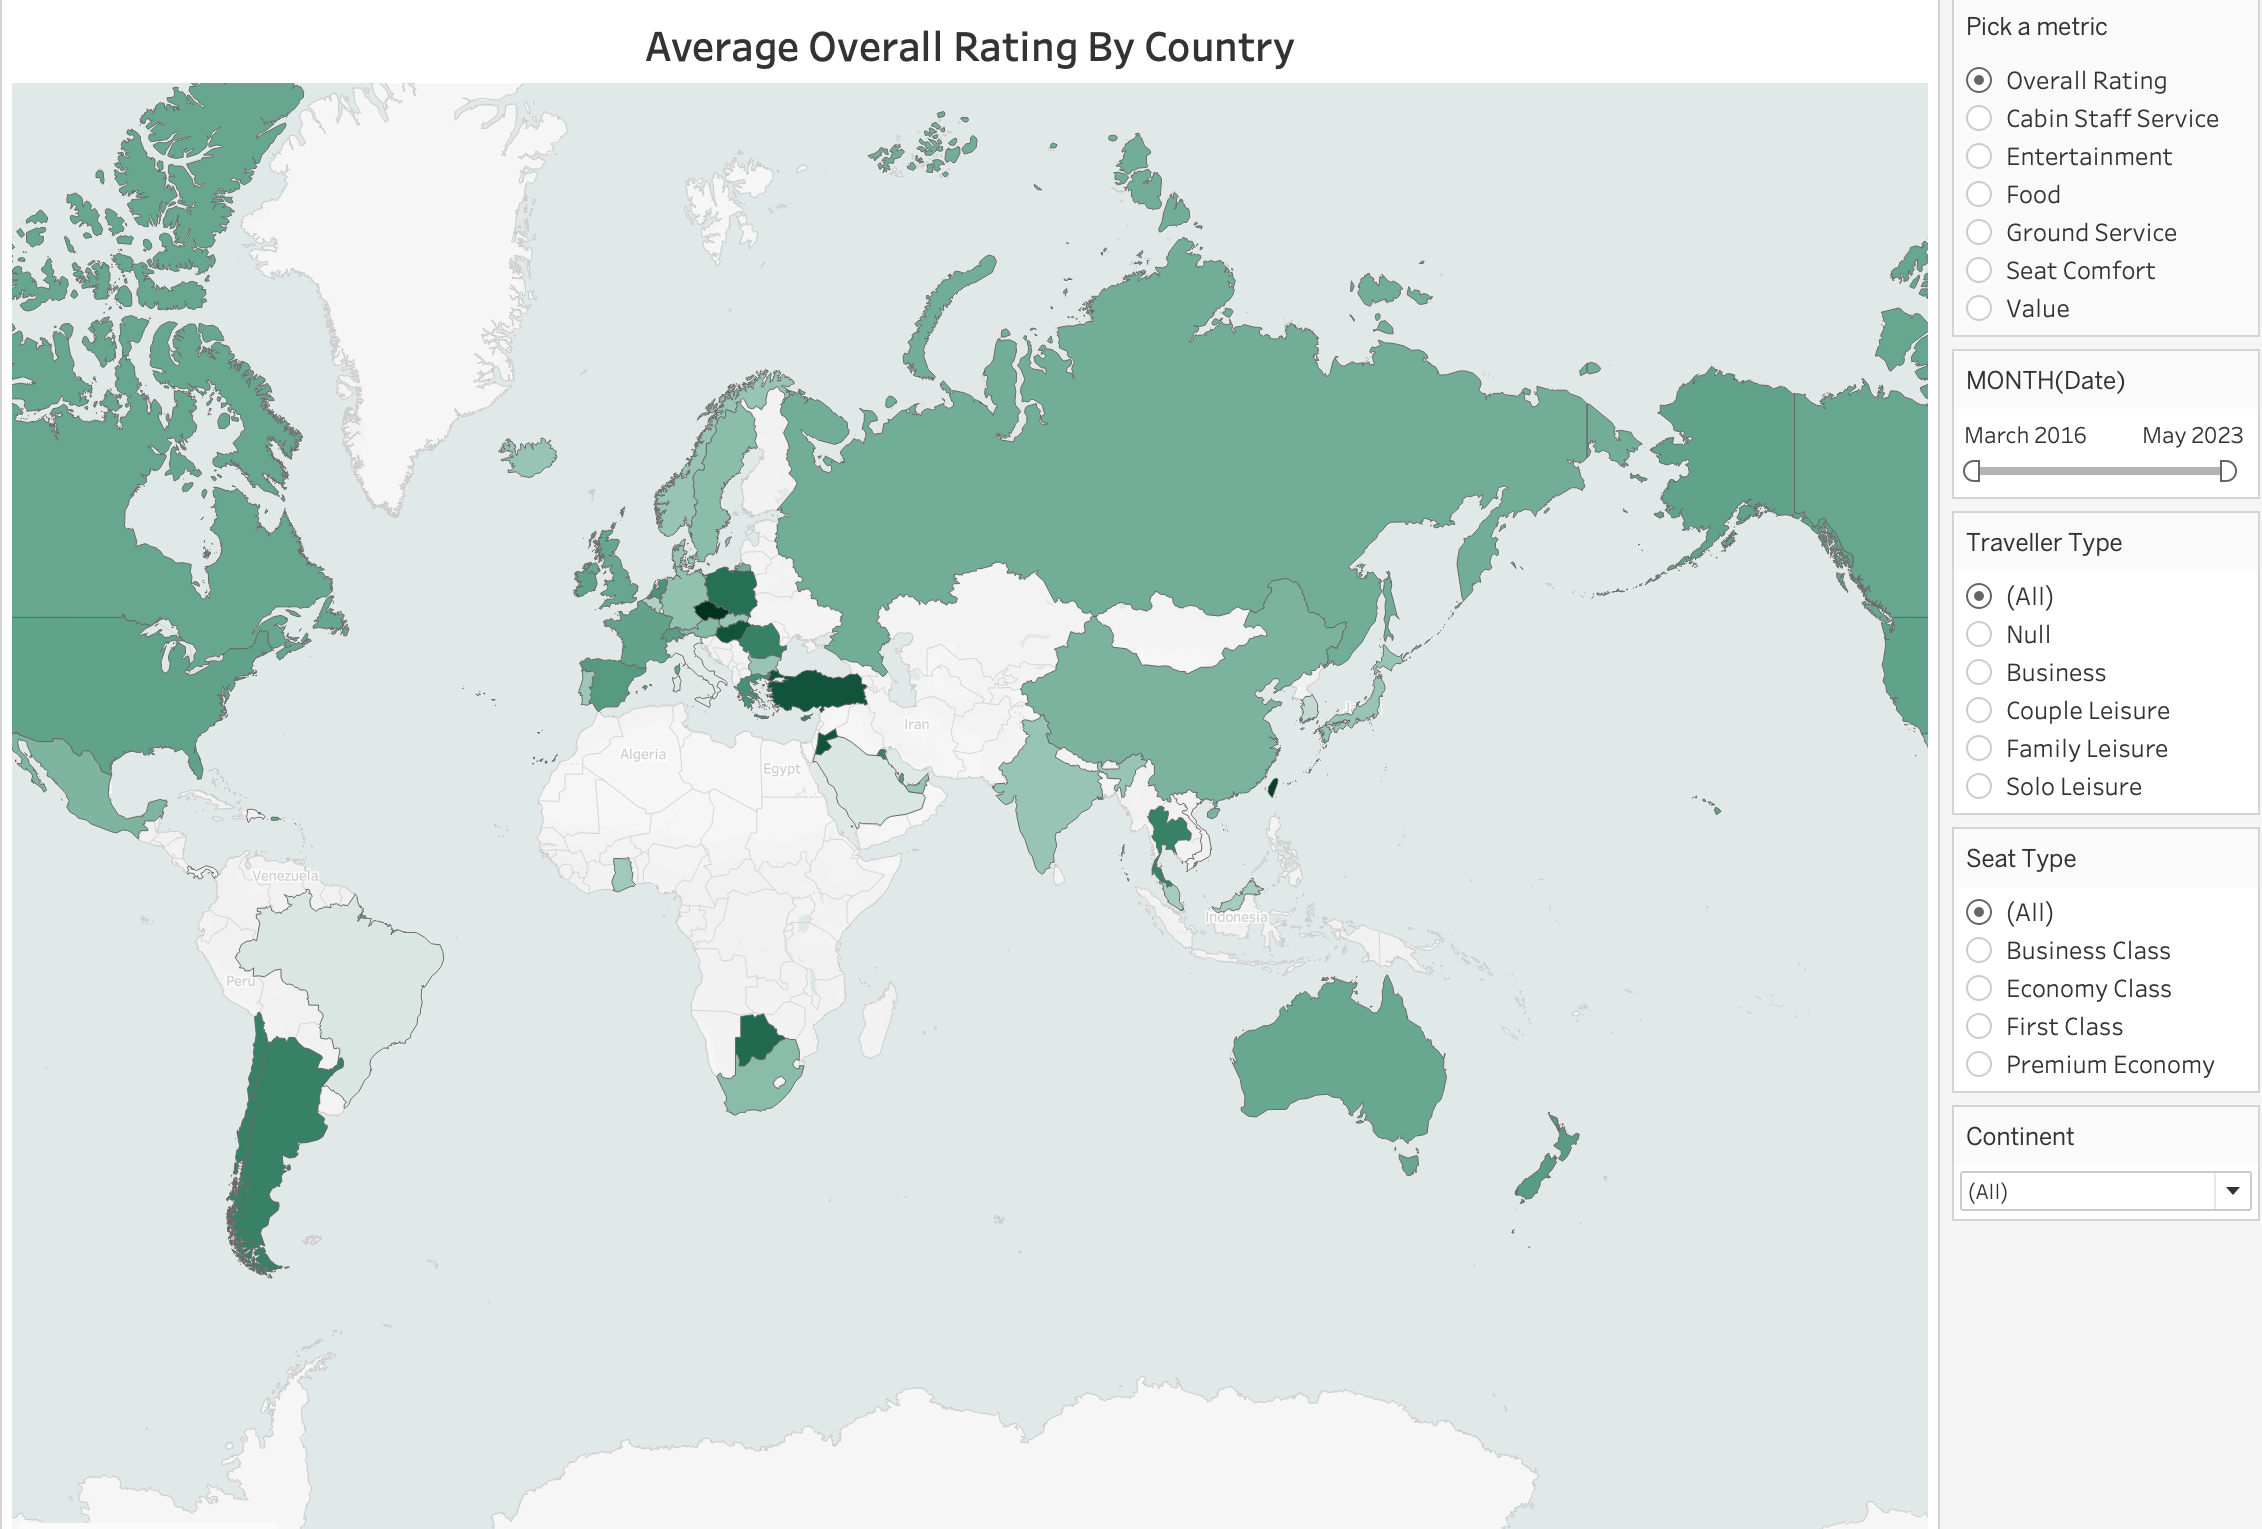

What the dashboard file says about the page in this screenshot:
{"tool":"tableau","page":{"name":"Dashboard 1","canvas":[1200,700],"ordinal":0},"visuals":[{"type":"text","box":[0,0,200,100]},{"type":"worksheet","title":"Sheet 2","mark":"Automatic","box":[200,0,971,100]},{"type":"parameter","param":"[Parameters].[Parameter 1]","box":[0,102,200,165]},{"type":"worksheet","title":"Sheet 3","mark":"Automatic","rows":["Calculation_1217100571811840"],"cols":["date"],"box":[220,102,431,270]},{"type":"worksheet","title":"Sheet 1","mark":"Automatic","box":[666,102,515,270]},{"type":"filter","title":"Sheet 1","param":"[federated.0x5x2k00nzam891eu6twp140k7w8].[tmn:date:qk]","box":[0,267,200,69]},{"type":"filter","title":"Sheet 1","param":"[federated.0x5x2k00nzam891eu6twp140k7w8].[none:traveller_type:nk]","box":[0,336,200,146]},{"type":"worksheet","title":"Sheet 4","mark":"Automatic","cols":["Calculation_1217100571811840","ba_reviews.csv_452A3FF4711845A99672E179E9E20271"],"box":[220,377,948,321]},{"type":"filter","title":"Sheet 1","param":"[federated.0x5x2k00nzam891eu6twp140k7w8].[none:seat_type:nk]","box":[0,482,200,127]},{"type":"filter","title":"Sheet 1","param":"[federated.0x5x2k00nzam891eu6twp140k7w8].[none:Continent:nk]","box":[0,609,200,52]}]}

Visuals, with their boxes on the page's 1200x700 design canvas (x1, y1, x2, y2). These are canvas units, not pixel positions in the 2262x1529 screenshot, which may show the page scaled, cropped or inside an application window:
text: x1=0 y1=0 x2=200 y2=100
"Sheet 2" worksheet: x1=200 y1=0 x2=1171 y2=100
parameter: x1=0 y1=102 x2=200 y2=267
"Sheet 3" worksheet: x1=220 y1=102 x2=651 y2=372
"Sheet 1" worksheet: x1=666 y1=102 x2=1181 y2=372
"Sheet 1" filter: x1=0 y1=267 x2=200 y2=336
"Sheet 1" filter: x1=0 y1=336 x2=200 y2=482
"Sheet 4" worksheet: x1=220 y1=377 x2=1168 y2=698
"Sheet 1" filter: x1=0 y1=482 x2=200 y2=609
"Sheet 1" filter: x1=0 y1=609 x2=200 y2=661
